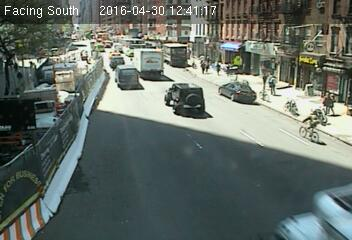neg: (296, 109, 324, 146), (163, 90, 174, 104), (126, 49, 135, 61), (116, 53, 122, 61)
pos: (265, 72, 280, 93), (214, 61, 224, 75)
